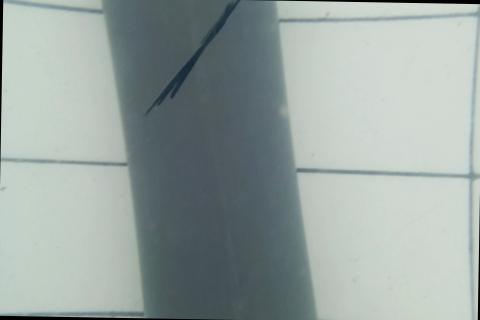keretakan: (141, 0, 244, 121)
